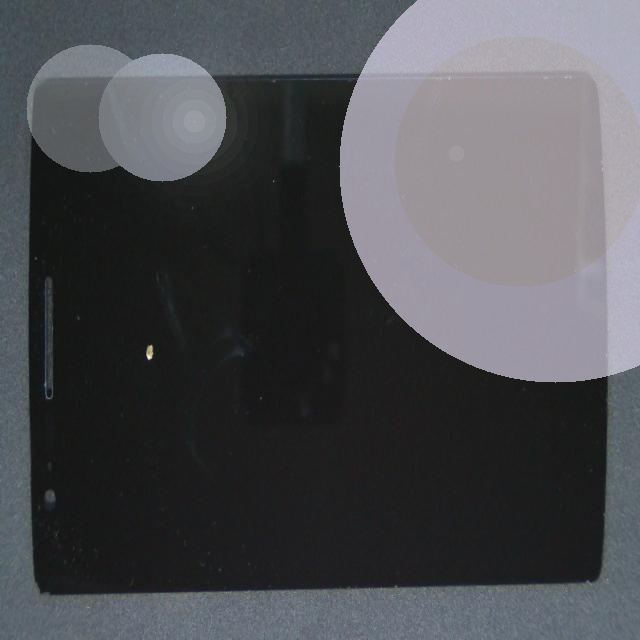stain: (35, 148, 207, 547)
